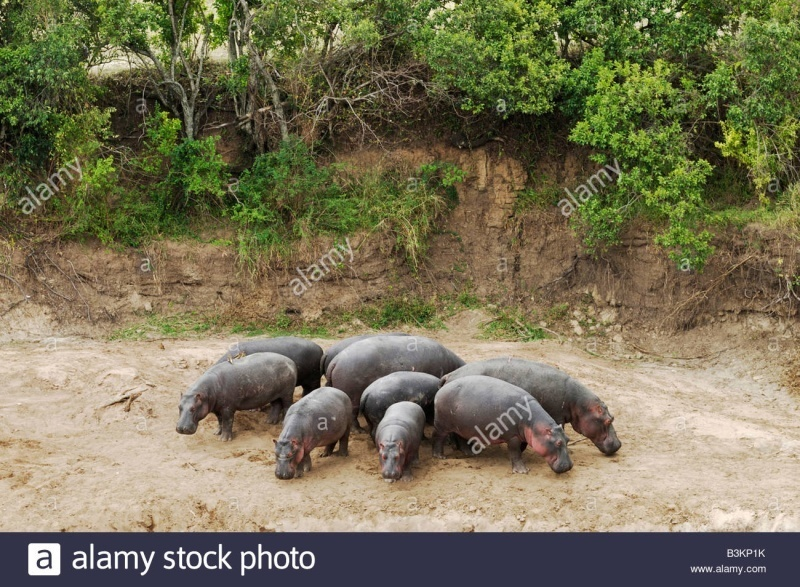hipopotamo: (451, 355, 621, 457), (431, 375, 575, 485), (174, 350, 297, 442), (327, 334, 463, 392), (272, 384, 353, 481), (217, 334, 318, 377), (374, 398, 424, 483), (357, 369, 443, 412)
